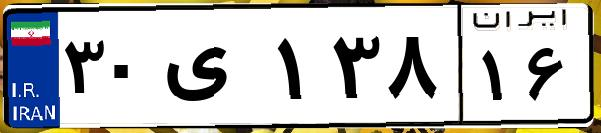0: (110, 28, 158, 98)
1: (270, 28, 330, 110), (475, 38, 525, 113)
3: (330, 28, 385, 110), (57, 26, 110, 100)
6: (525, 38, 570, 115)
8: (385, 28, 445, 110)
ی: (158, 20, 270, 120)
